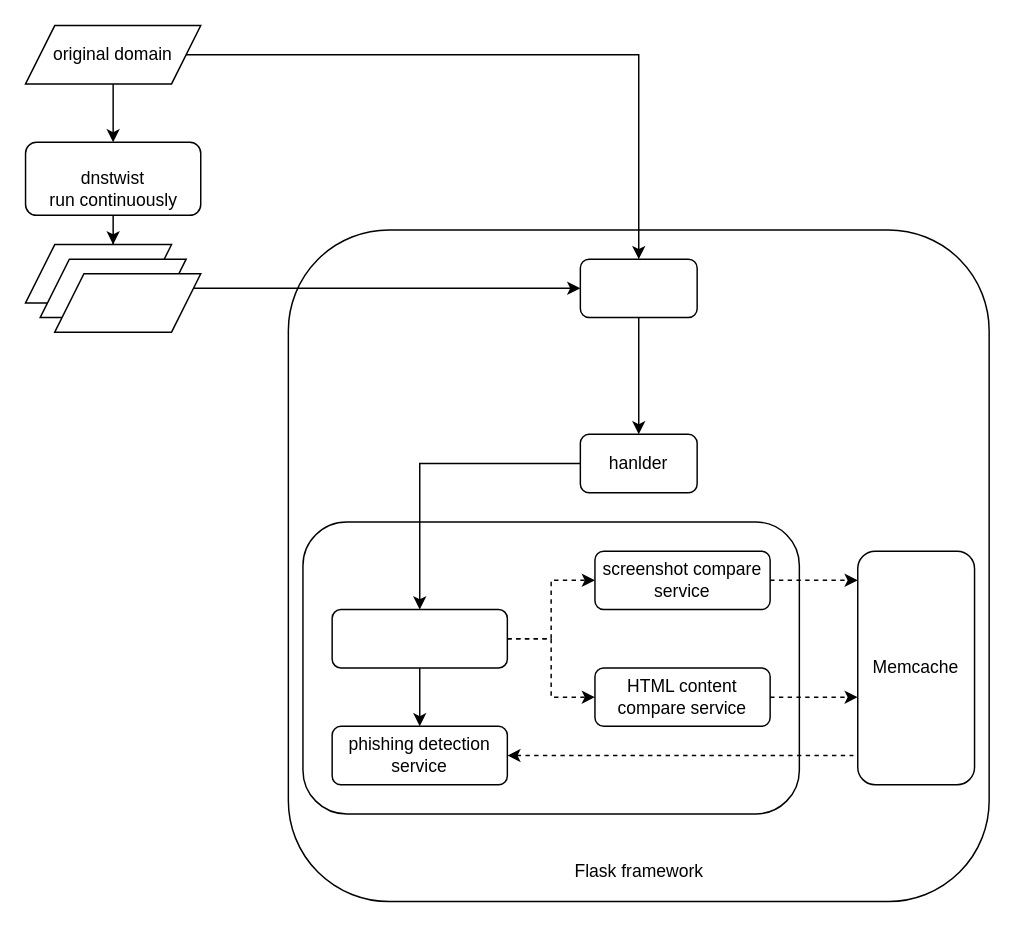
Image size: 1015x927. Some labels were removed from this diagram. The shapes that lost their labels are listed below. From the top down, each one's centre as x and y in pixels, then its label:
point (127, 302): suspicious domains
point (638, 288): end points
point (419, 638): extract website conent service
